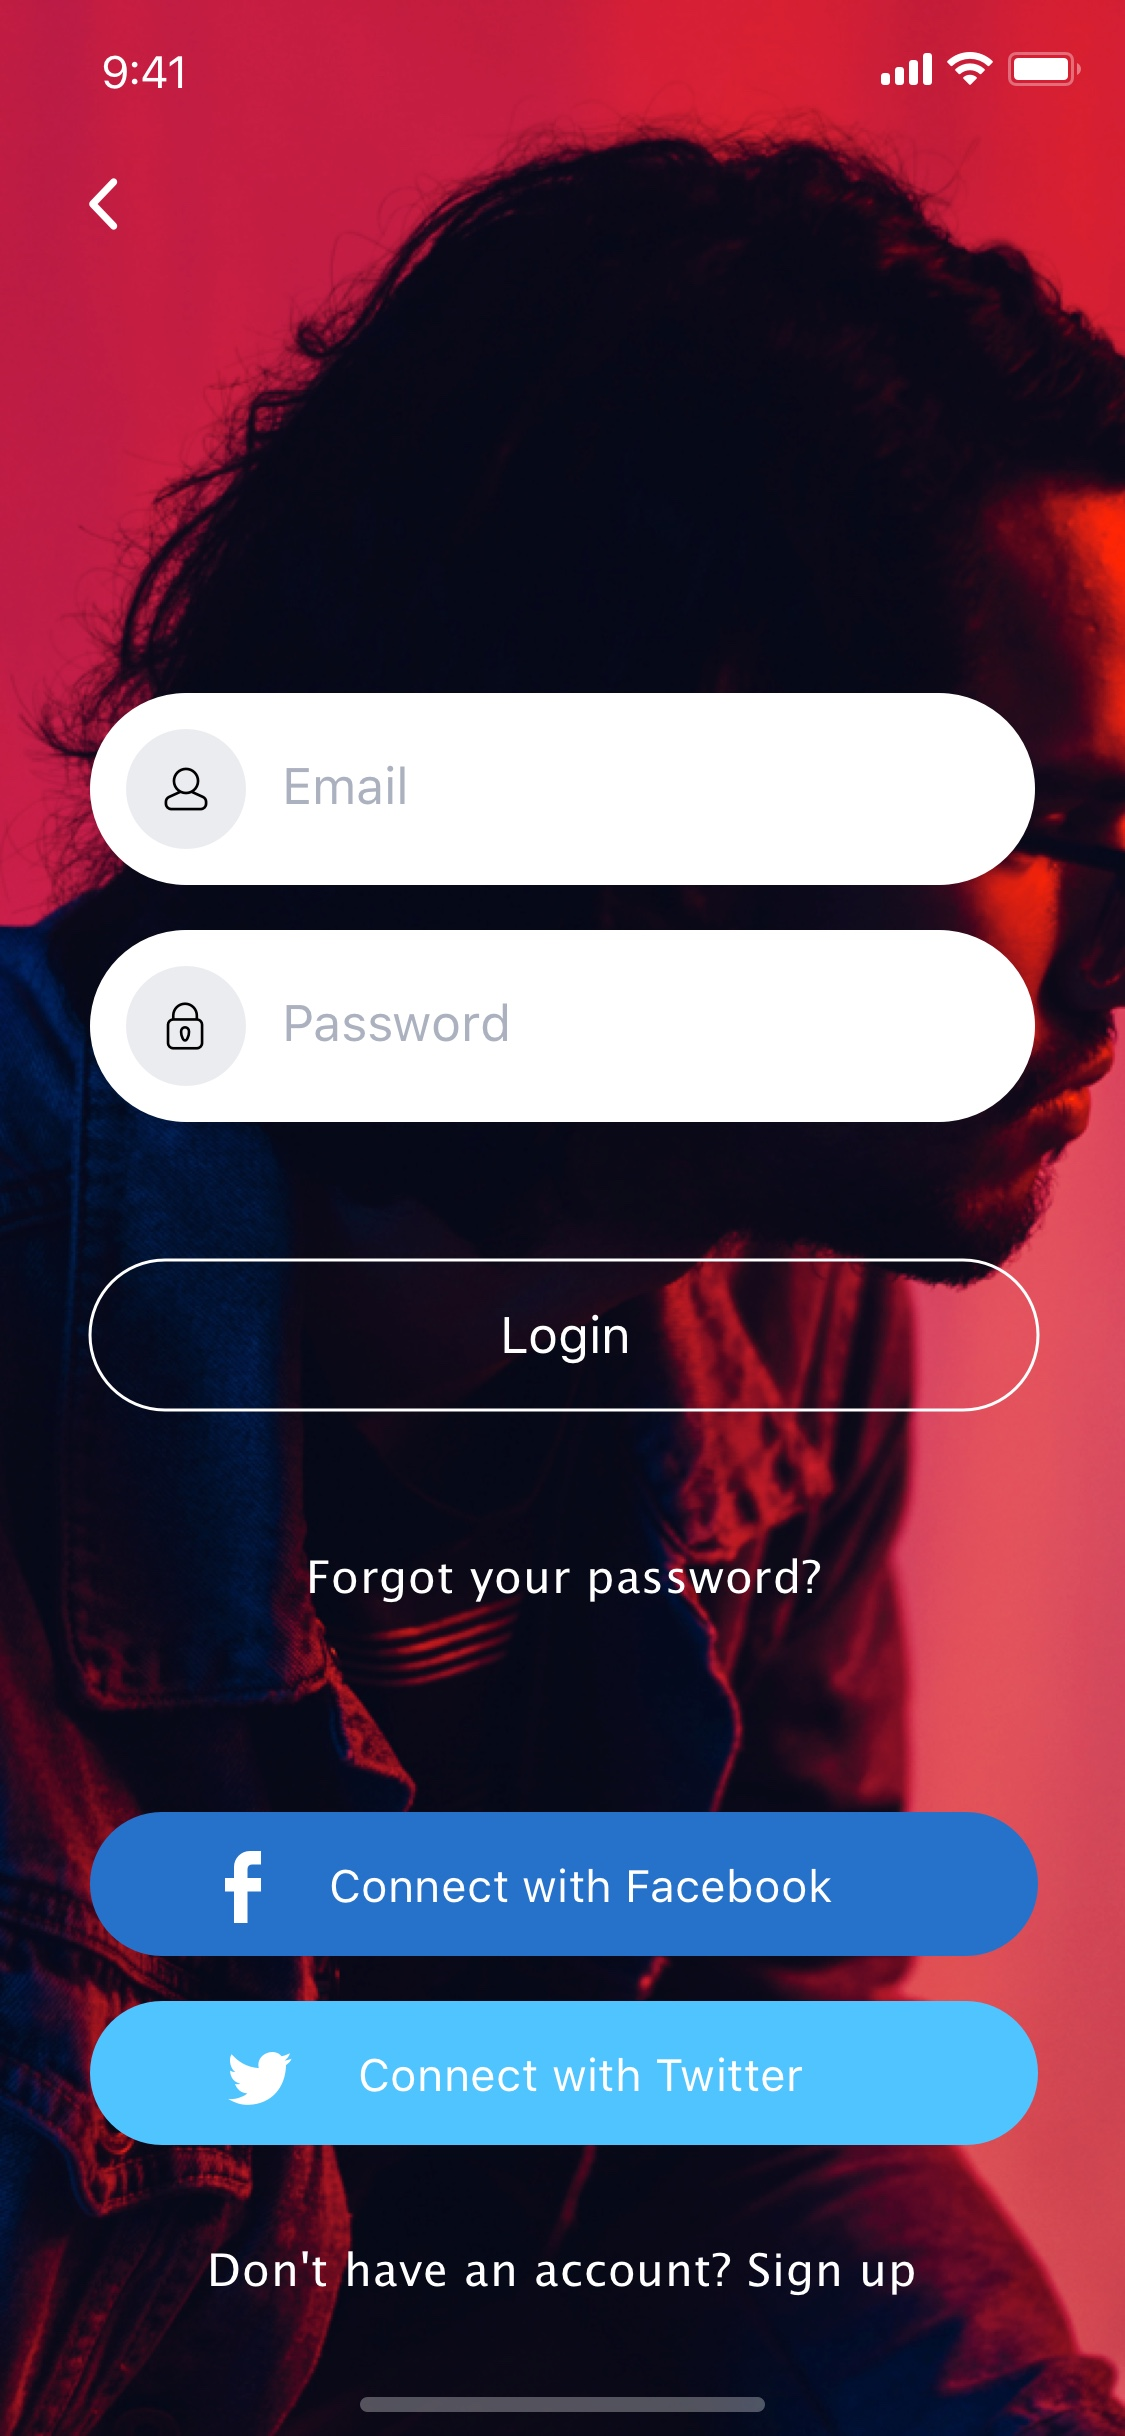BackgroundImage: (2, 2, 1125, 2436)
EditText: (90, 693, 1036, 886), (90, 931, 1036, 1123)
Icon: (126, 966, 249, 1087), (126, 729, 249, 850), (89, 179, 120, 231)
Text: (211, 2250, 915, 2298), (309, 1557, 822, 1603), (286, 1004, 508, 1044), (286, 764, 406, 806)
TextButton: (89, 1258, 1041, 1414), (90, 1999, 1040, 2145), (92, 1811, 1040, 1957)
UpperTaskBar: (103, 51, 1083, 92)
